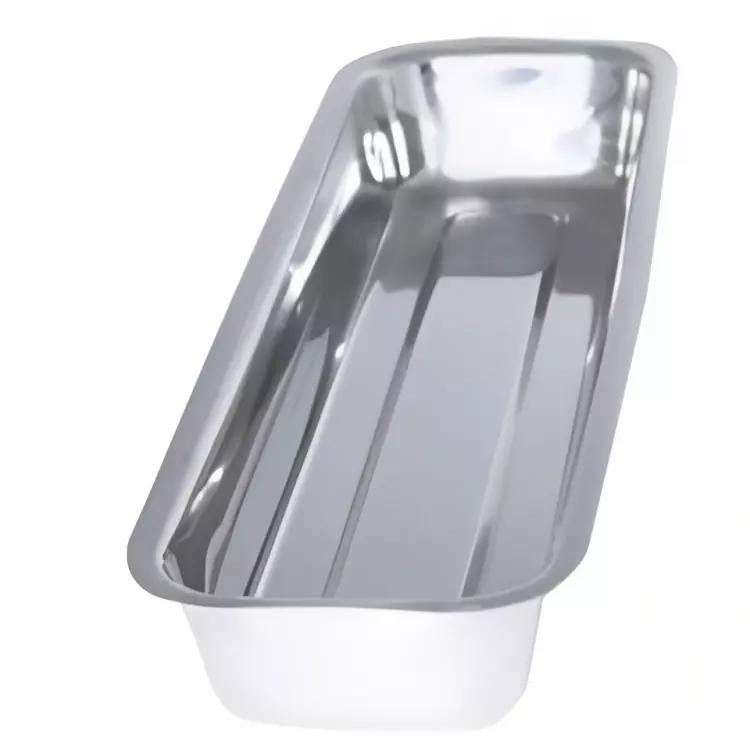Catheter Tray: (120, 26, 687, 723)
